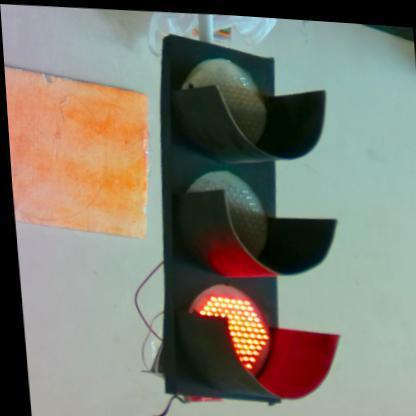red: (135, 28, 347, 404)
